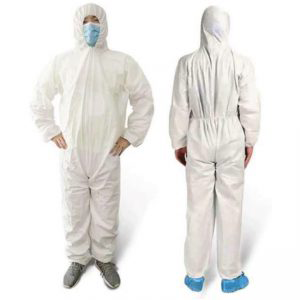Coverall: (32, 2, 152, 258), (167, 6, 261, 270)
with_mask: (81, 20, 104, 44)
